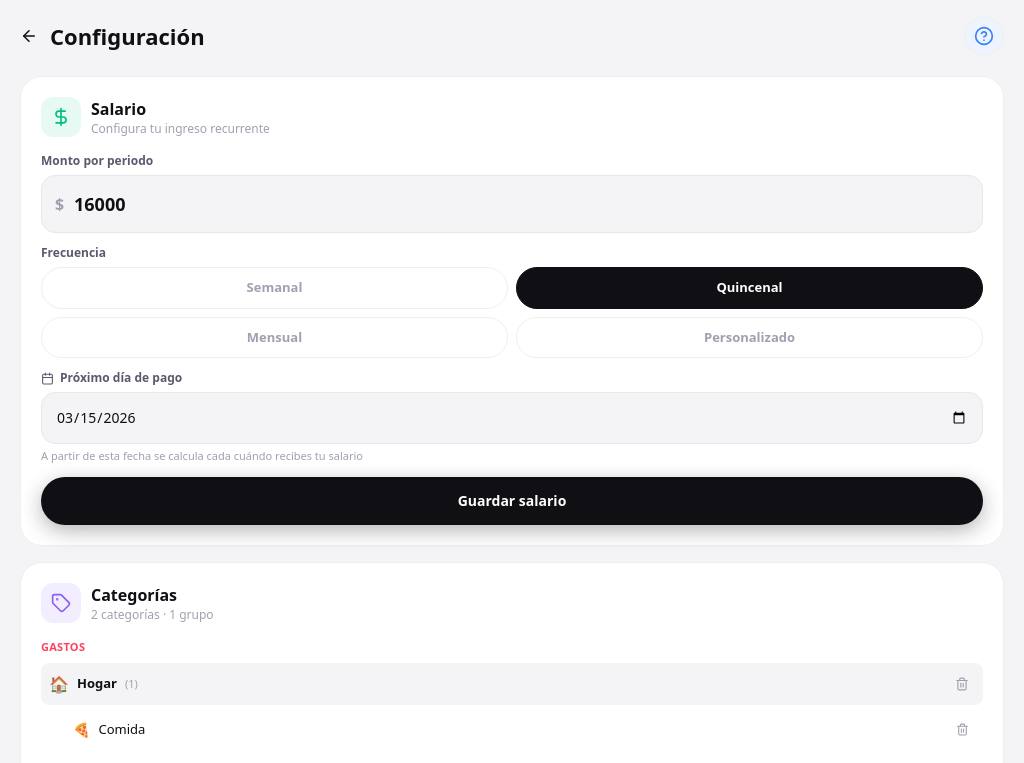
Settings Page › should show error message when save fails
Expected: the field showing "16000" is shown, top-left (41, 175), bottom-right (983, 233)
Click the button "Guardar salario" at (512, 500), box top-left (41, 476), bottom-right (983, 524)
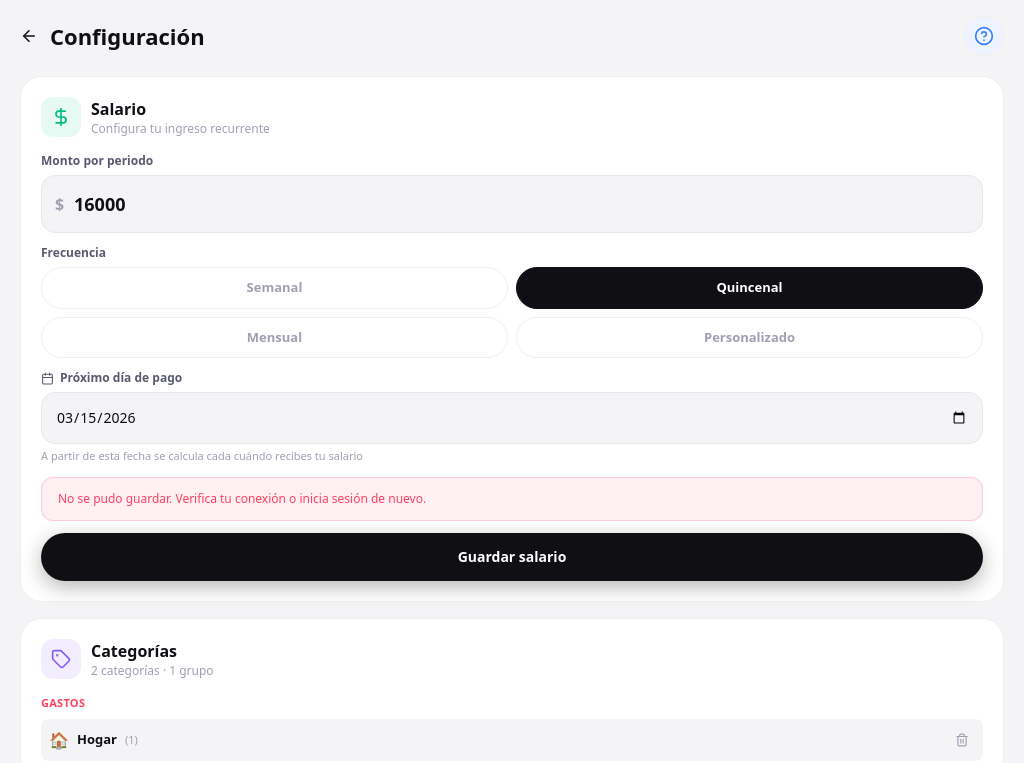
Now the text "No se pudo guardar. Verifica tu conexión o inicia sesión de nuevo." is shown, box top-left (58, 490), bottom-right (426, 506)
